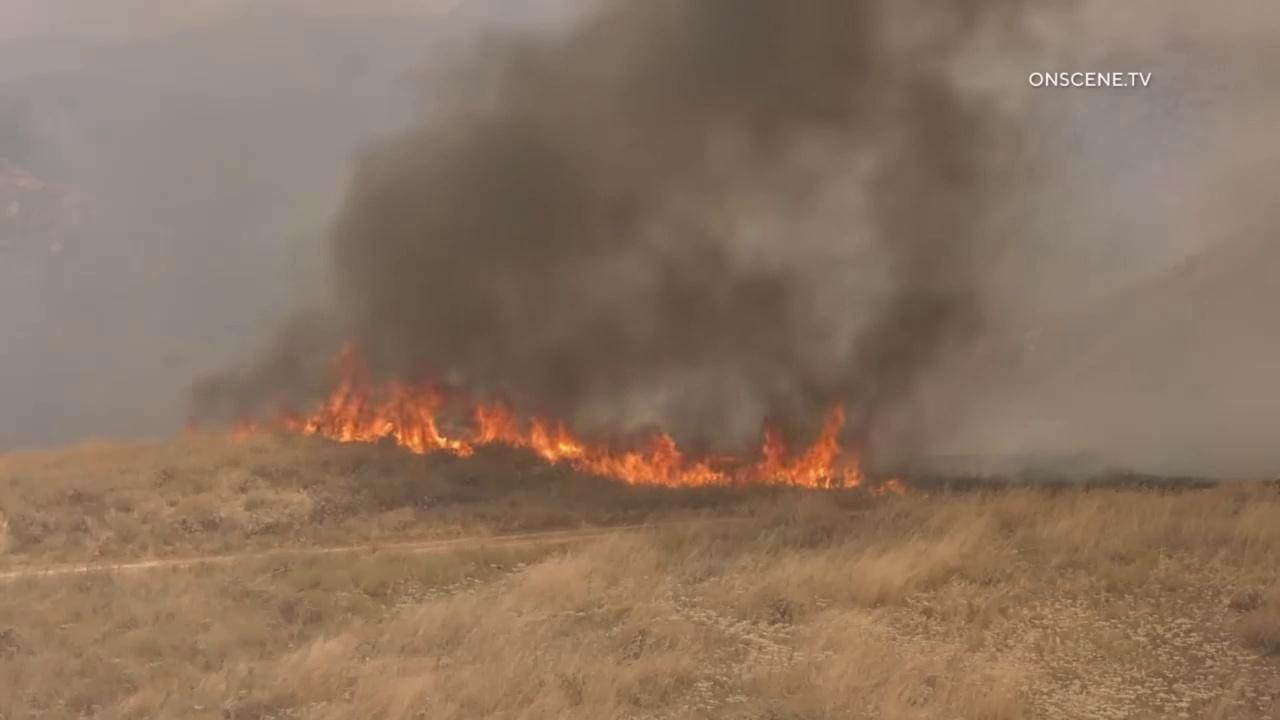fire: (267, 331, 866, 490), (227, 420, 258, 445), (871, 478, 906, 499)
smoke: (0, 0, 1280, 481)
